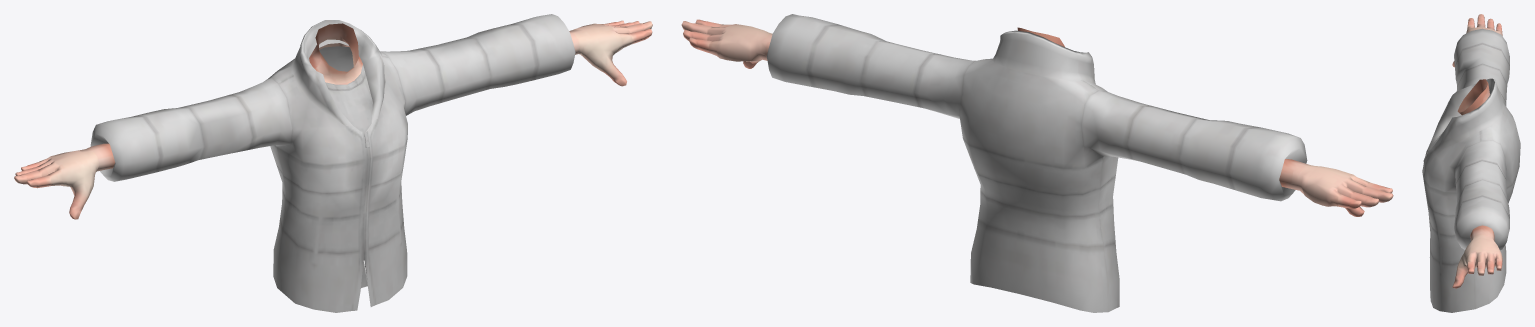
File: tr0800_00_upb03.gltf
The picture shows the model from 3 angles, left to right: view 1: azimuth 30°, elevation 25°; view 2: azimuth 150°, elevation 25°; view 3: azimuth 270°, elevation 25°; orthographic projection. The views are drawn at different scales.
Visible parts, largest first — view 1: upb03_upperbody_mesh_shape:upperbody03, upb03_upperskin_mesh_shape:upperbody03_skin; view 2: upb03_upperbody_mesh_shape:upperbody03, upb03_upperskin_mesh_shape:upperbody03_skin; view 3: upb03_upperbody_mesh_shape:upperbody03, upb03_upperskin_mesh_shape:upperbody03_skin.
Boxes of the visible parts, box(x1,y1,x2,y2) form: upb03_upperbody_mesh_shape:upperbody03: box(90, 14, 575, 312); upb03_upperskin_mesh_shape:upperbody03_skin: box(14, 20, 652, 219); upb03_upperbody_mesh_shape:upperbody03: box(766, 14, 1307, 312); upb03_upperskin_mesh_shape:upperbody03_skin: box(681, 19, 1393, 216); upb03_upperbody_mesh_shape:upperbody03: box(1422, 28, 1520, 312); upb03_upperskin_mesh_shape:upperbody03_skin: box(1452, 14, 1502, 288).
Size of what is drawn, in the model's own units: 1.63 by 0.639 by 0.2634.
2 materials, 2 textured.
